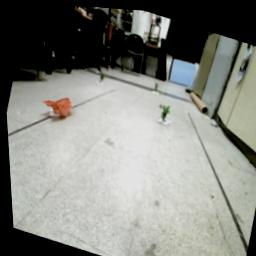herb: (154, 99, 174, 124), (96, 70, 107, 86)
wild: (37, 89, 76, 124)
